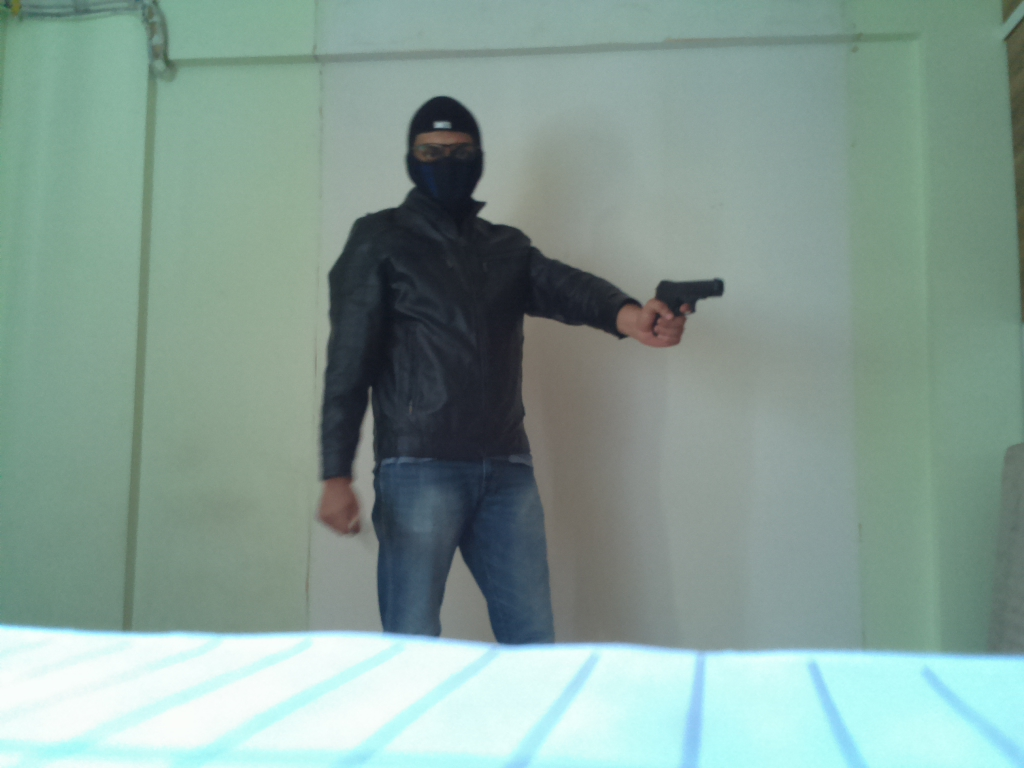gun: (647, 272, 738, 338)
